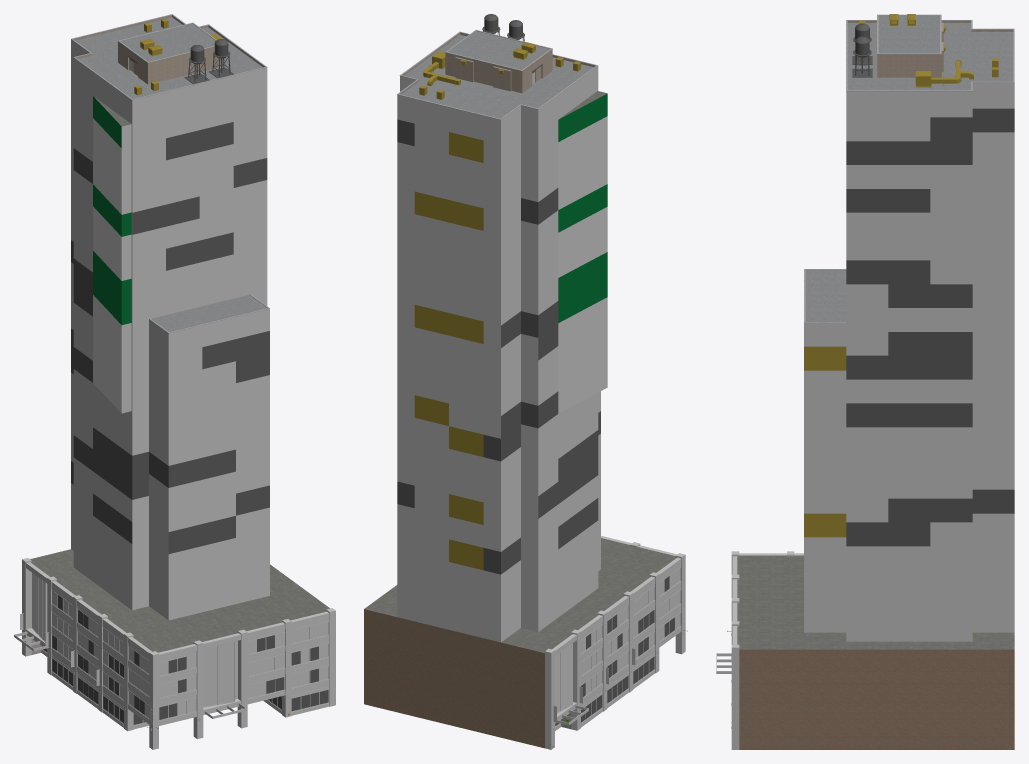
The model's file is mcp_building_26_LOD_0.FBX.
3 views of the same model, side by side, from view 1: azimuth 30°, elevation 25°; view 2: azimuth 150°, elevation 25°; view 3: azimuth 270°, elevation 25° (orthographic). The views are drawn at different scales.
Parts seen in each view (by area): view 1: mcp_building_26_walls, mcp_building_26, mcp_building_26_metal, mcp_building_26_props_02, mcp_building_26_marble, mcp_building_26_props_01; view 2: mcp_building_26_walls, mcp_building_26, mcp_building_26_props_01, mcp_building_26_metal, mcp_building_26_props_02; view 3: mcp_building_26_walls, mcp_building_26, mcp_building_26_metal, mcp_building_26_props_01, mcp_building_26_props_02.
Part boxes in pixels (box(x1,y1,x2,y2)): mcp_building_26_walls: box(30, 15, 329, 654); mcp_building_26: box(14, 558, 335, 749); mcp_building_26_metal: box(71, 14, 269, 333); mcp_building_26_props_02: box(147, 39, 234, 728); mcp_building_26_marble: box(41, 649, 329, 729); mcp_building_26_props_01: box(22, 18, 289, 715); mcp_building_26_walls: box(364, 31, 676, 748); mcp_building_26: box(545, 536, 685, 749); mcp_building_26_props_01: box(419, 42, 580, 747); mcp_building_26_metal: box(397, 30, 598, 119); mcp_building_26_props_02: box(482, 14, 687, 631); mcp_building_26_walls: box(737, 15, 1014, 749); mcp_building_26: box(716, 551, 803, 749); mcp_building_26_metal: box(804, 14, 1014, 322); mcp_building_26_props_01: box(731, 14, 998, 722); mcp_building_26_props_02: box(727, 23, 872, 631).
Bounding box in the file's own units: 5395 × 16734 × 6619.
